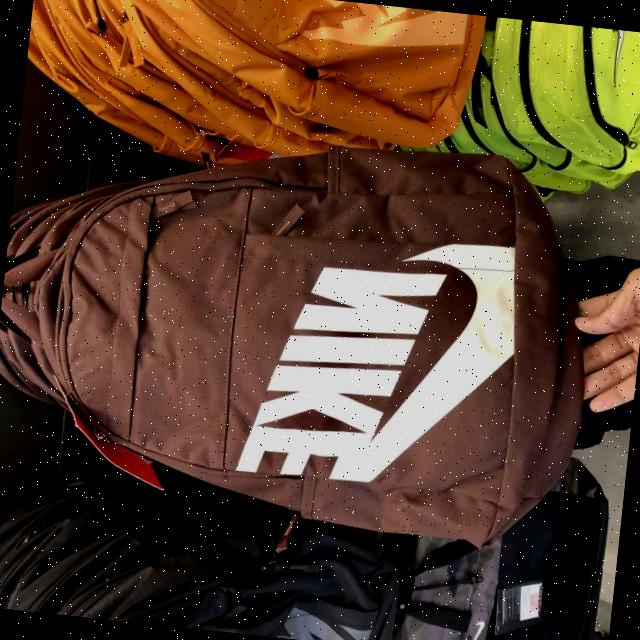handbag: (15, 111, 622, 558)
